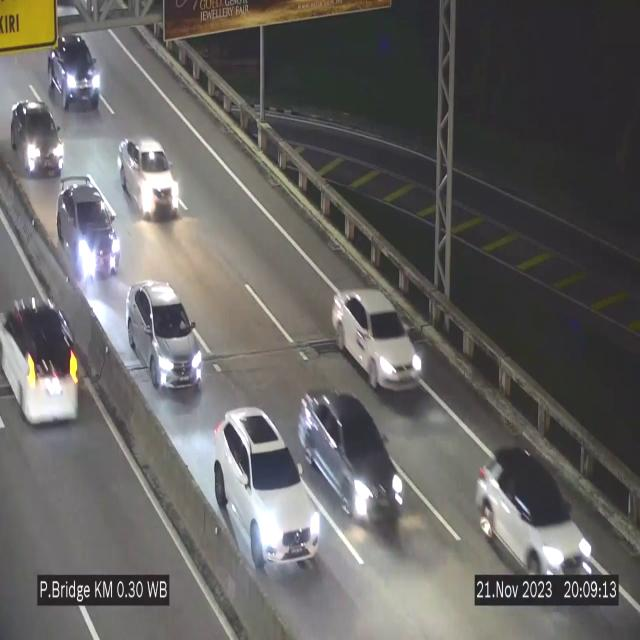Car: (298, 356, 403, 526), (214, 409, 319, 575), (476, 443, 591, 576), (0, 275, 83, 437), (331, 289, 425, 390), (49, 171, 122, 288), (126, 282, 202, 390), (4, 100, 70, 182), (117, 138, 179, 218), (48, 33, 102, 112)
